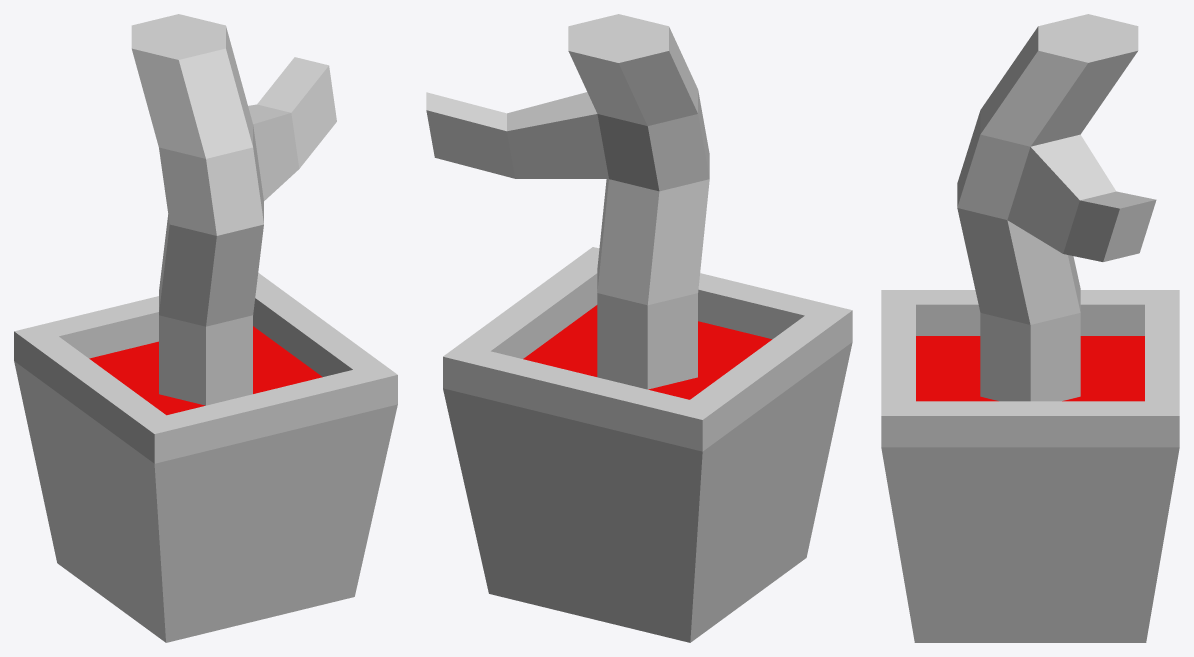
The model's file is Maceta_01.fbx.
3 renders of one model, left to right at view 1: azimuth 30°, elevation 25°; view 2: azimuth 150°, elevation 25°; view 3: azimuth 270°, elevation 25°, orthographic. The views are drawn at different scales.
Parts seen in each view (by area): view 1: g1, Componente_1_1; view 2: g1, Componente_1_1; view 3: g1, Componente_1_1.
Part boxes in pixels (bbox=[...]): g1: bbox=[14, 273, 397, 642]; Componente_1_1: bbox=[131, 14, 336, 405]; g1: bbox=[443, 247, 852, 642]; Componente_1_1: bbox=[426, 14, 709, 389]; g1: bbox=[881, 290, 1179, 642]; Componente_1_1: bbox=[957, 14, 1156, 401].
Size of the model in its own units: 30.42 by 53 by 25.8.
